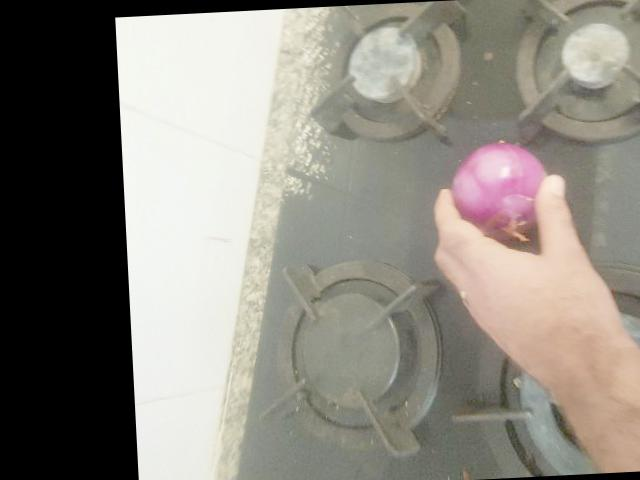onion: (265, 62, 358, 156)
